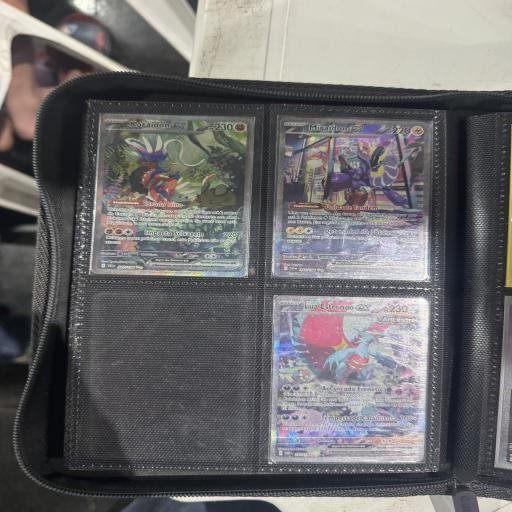card: (271, 294, 429, 465), (92, 114, 253, 277), (272, 118, 430, 278)
